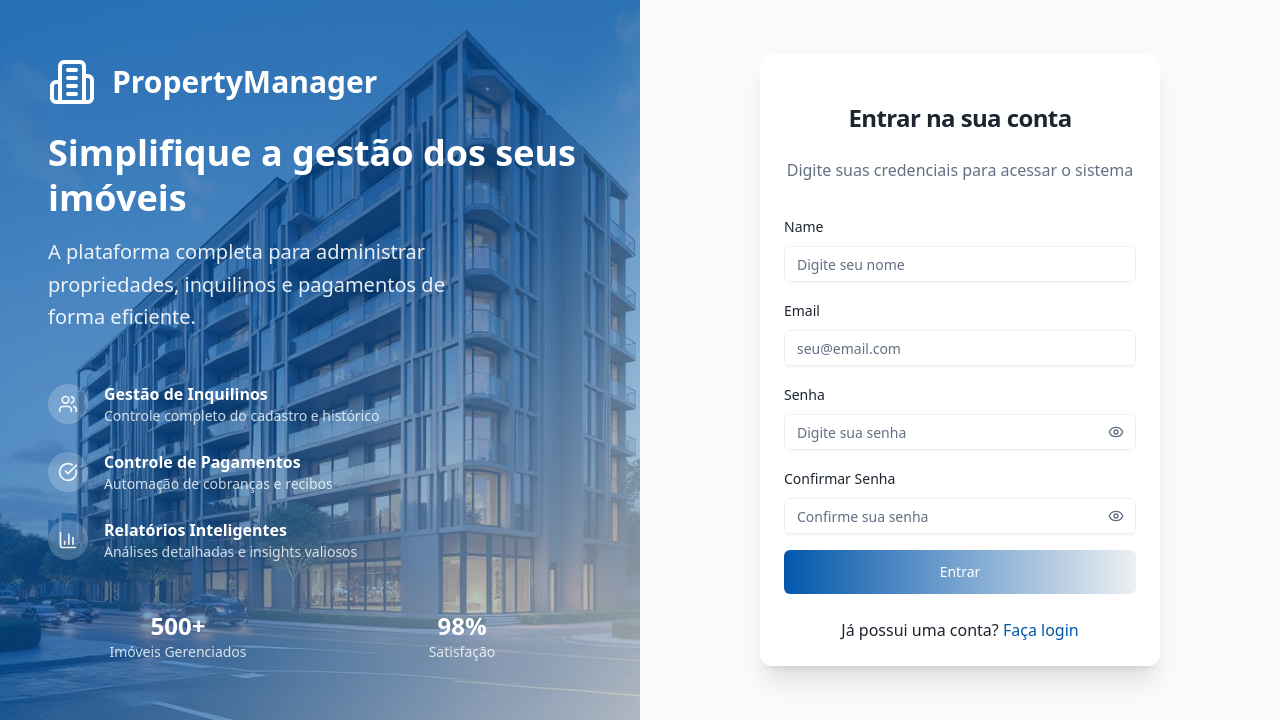
Formulário de Registro › Validações de Campo › deve exibir erro quando o email tem formato inválido
The width and height of the screenshot is (1280, 720).
In the field with id "email": (960, 348) [784,330,1136,366], type "email-invalido"
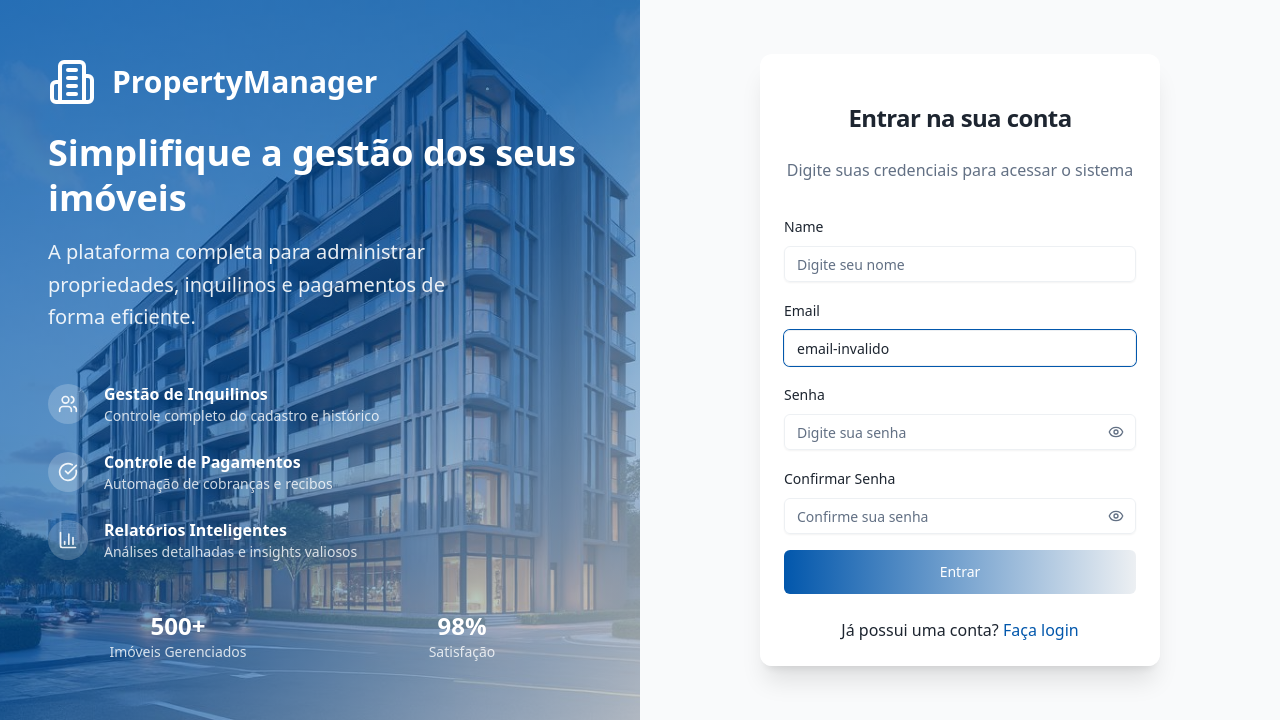
Leave the field with id "email", box [784,330,1136,366]
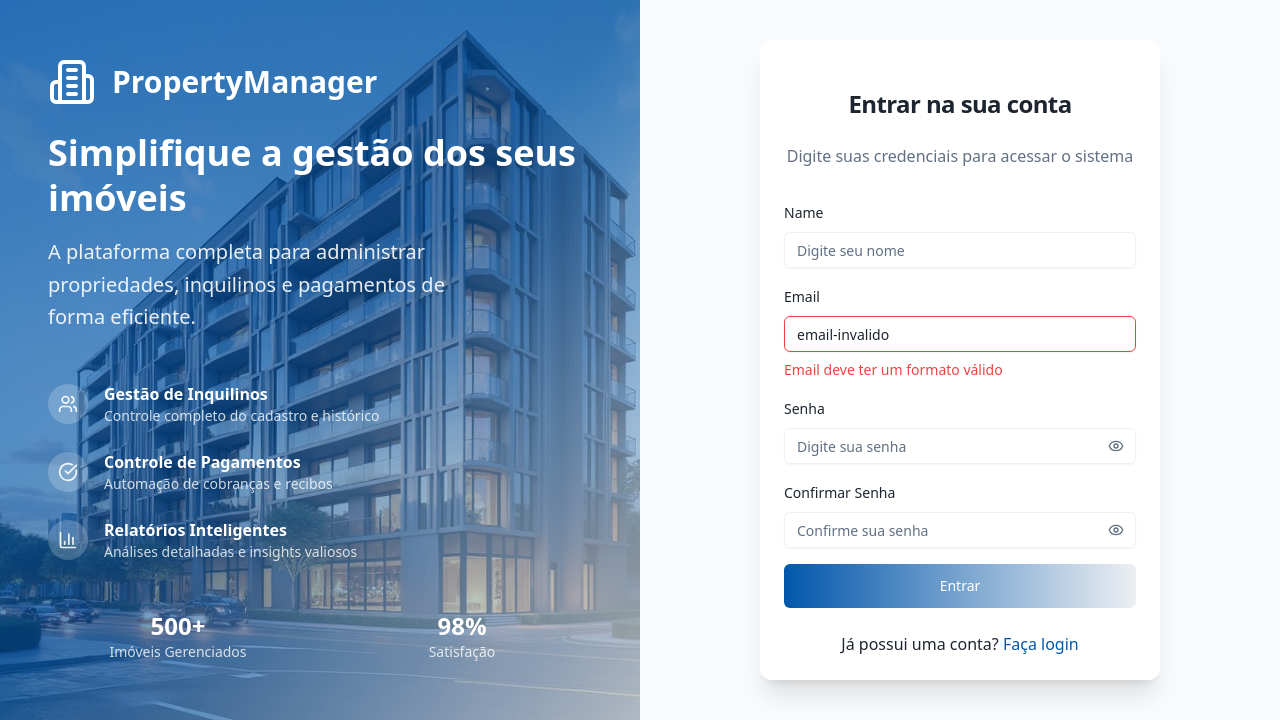
Expected: the text "Email deve ter um formato válido" is shown, [784,360,1003,379]
